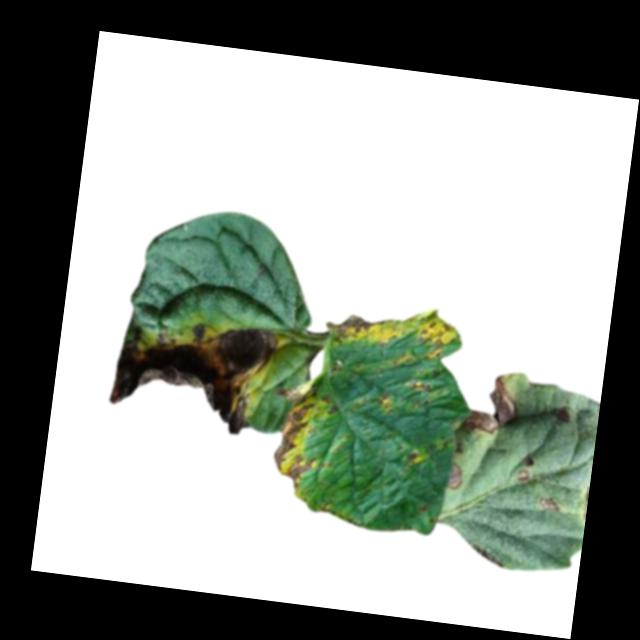Early_blight: (106, 311, 279, 442), (271, 378, 331, 492), (460, 372, 524, 438), (322, 311, 386, 349), (415, 316, 453, 363), (447, 463, 465, 491), (536, 496, 562, 514), (405, 450, 421, 467), (516, 469, 530, 485)
